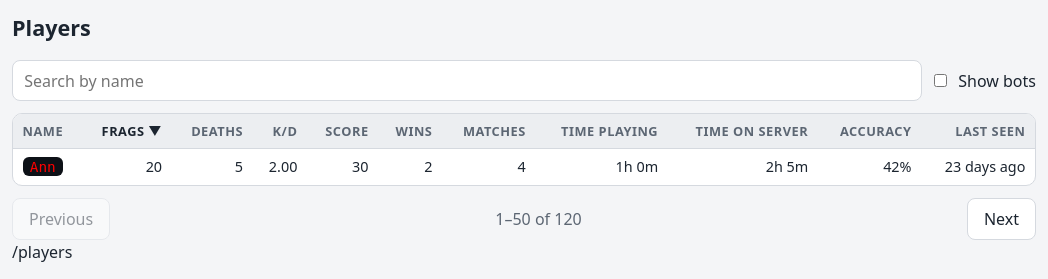
the Players table (7.2) › asks the server to sort, so the order covers every page
Expected: the text "Ann" is shown, [30,158,56,174]
What coordinates should you click on to do the following:
click the button "Time playing"
I would click on:
 (610, 132)
Its box is [561,122,658,141].
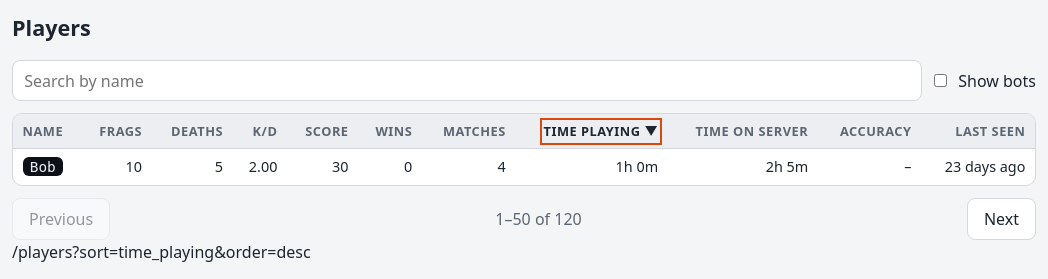
Now the text "Bob" is shown, box [30,158,56,174]
